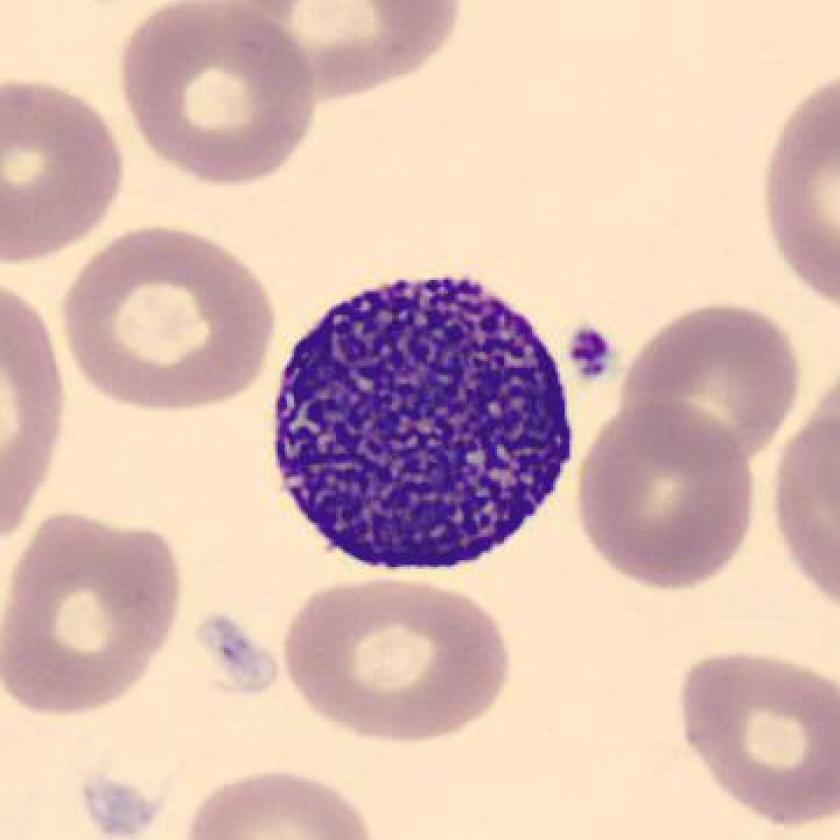basophil: (272, 253, 575, 580)
